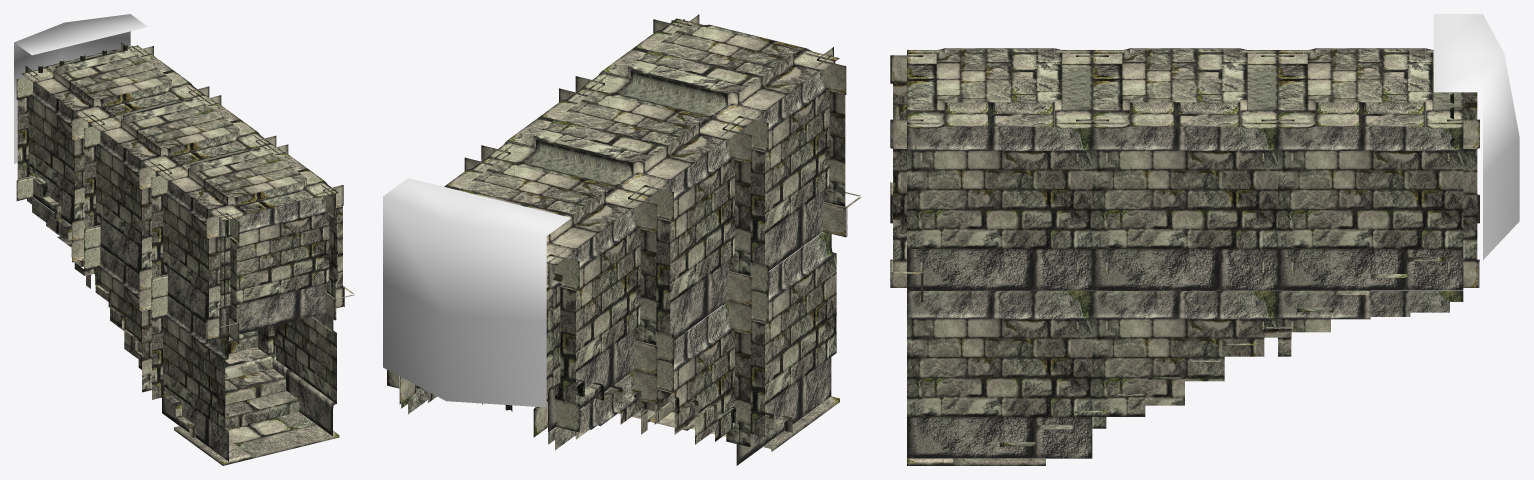
Rendered from stairs.fbx.
The picture shows the model from 3 angles, left to right: view 1: azimuth 30°, elevation 25°; view 2: azimuth 150°, elevation 25°; view 3: azimuth 270°, elevation 25°; orthographic projection. The views are drawn at different scales.
Visible parts, largest first — view 1: Stairs_Better; view 2: Stairs_Better; view 3: Stairs_Better.
Boxes of the visible parts, x1,y1,x2,y2 form: Stairs_Better: (14,14,354,465); Stairs_Better: (383,14,860,465); Stairs_Better: (890,14,1519,465).
Size of the model in its own units: 1.18 by 2.22 by 3.39.
